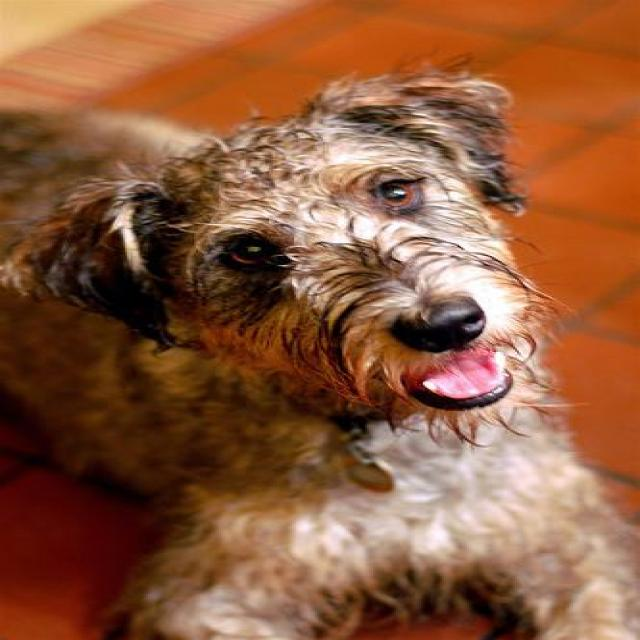standard_schnauzer: (2, 55, 628, 637)
